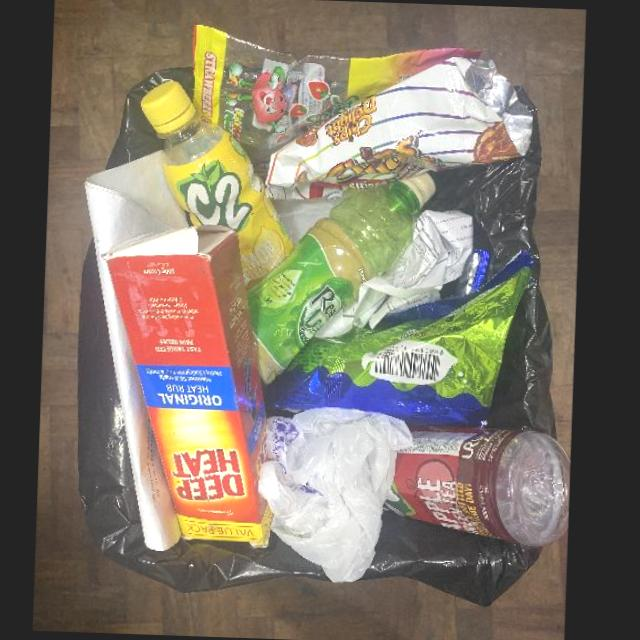bao_bi_thuc_pham: (263, 250, 535, 429), (192, 23, 481, 185), (263, 57, 531, 200)
carton: (105, 224, 274, 547)
chai_nhua: (246, 172, 434, 389)
chai_nhua_pet: (139, 81, 295, 288), (384, 424, 570, 548)
giay: (86, 148, 198, 553), (314, 207, 472, 335)
tui_ni_long: (254, 407, 412, 583)
